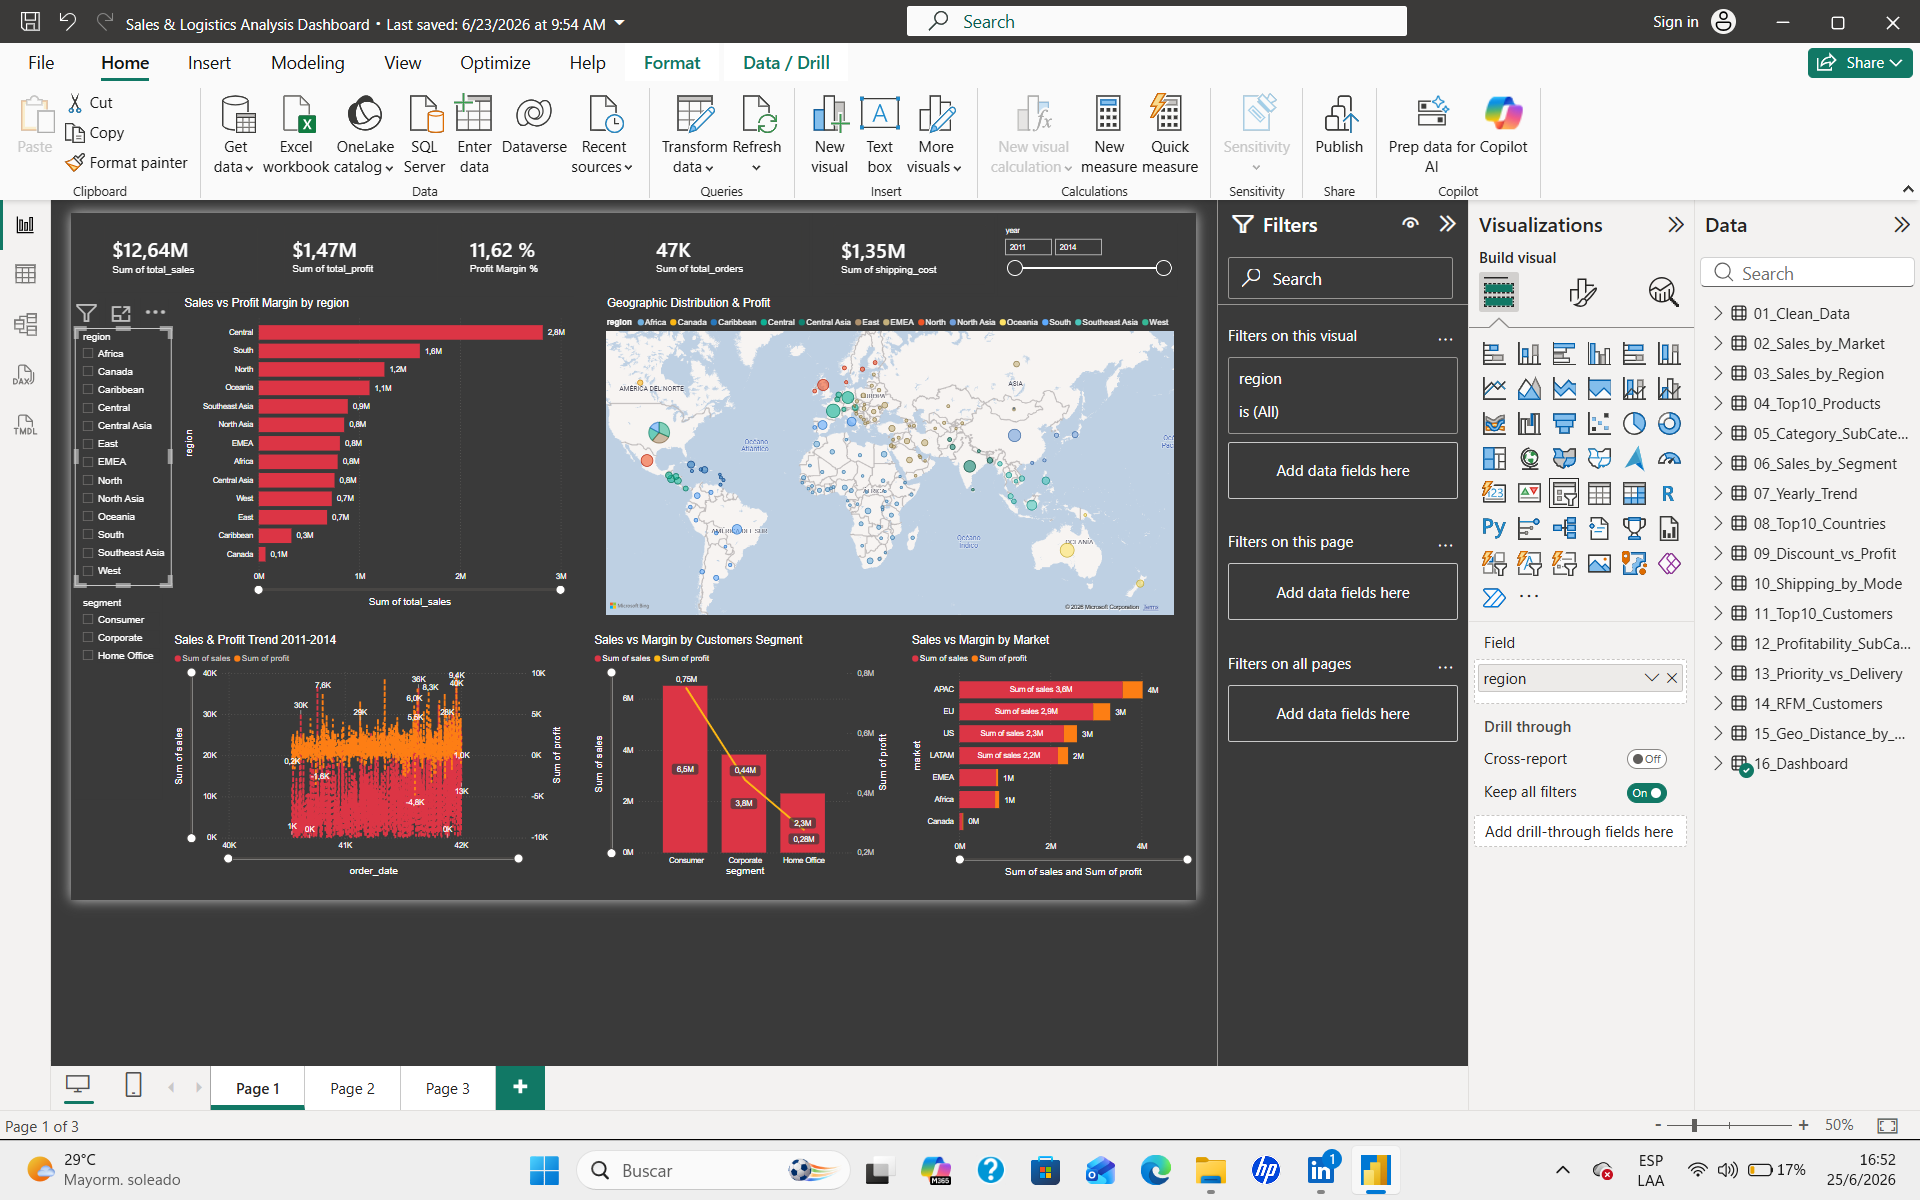

What the dashboard file says about the page in this screenshot:
{"tool":"powerbi","page":{"name":"Page 1","canvas":[1800,1100],"ordinal":0},"visuals":[{"type":"cardVisual","fields":{"Data":["Sum(02_Sales_by_Market.total_sales)"]},"box":[35,2.5,280,130],"z":0},{"type":"cardVisual","fields":{"Data":["Sum(02_Sales_by_Market.total_profit)"]},"box":[323.3,0,280,131.7],"z":1000},{"type":"cardVisual","fields":{"Data":["01_Clean_Data.Profit Margin %"]},"box":[608.3,0,280,131.7],"z":2000},{"type":"cardVisual","fields":{"Data":["Sum(05_Category_SubCategory.total_orders)"]},"box":[905,0,280,131.7],"z":3000},{"type":"cardVisual","fields":{"Data":["Sum(16_Dashboard.shipping_cost)"]},"box":[1201.7,1.7,280,131.7],"z":4000},{"type":"map","title":"Geographic Distribution & Profit","fields":{"Category":["16_Dashboard.country"],"Y":["Avg(16_Dashboard.lat)"],"X":["Avg(16_Dashboard.lon)"],"Size":["Sum(16_Dashboard.sales)"],"Series":["16_Dashboard.region"]},"box":[852,134,918,514],"z":5000},{"type":"barChart","title":"Sales vs Margin by Market","fields":{"Category":["16_Dashboard.market"],"Y":["Sum(16_Dashboard.sales)","Sum(16_Dashboard.profit)"]},"box":[1340,672,460,394],"z":6000},{"type":"clusteredBarChart","title":"Sales vs Profit Margin by region","fields":{"Category":["03_Sales_by_Region.region"],"Y":["Sum(03_Sales_by_Region.total_sales)"]},"box":[176,134,628,500],"z":7000},{"type":"lineClusteredColumnComboChart","title":"Sales vs Margin by Customers Segment","fields":{"Category":["16_Dashboard.segment"],"Y":["Sum(16_Dashboard.sales)"],"Y2":["Sum(16_Dashboard.profit)"]},"box":[832,672,480,394],"z":8000},{"type":"lineChart","title":"Sales & Profit Trend  2011-2014","fields":{"Category":["16_Dashboard.order_date"],"Y2":["Sum(16_Dashboard.profit)"],"Y":["Sum(16_Dashboard.sales)"]},"box":[160,672.5,630,392.5],"z":9000},{"type":"slicer","fields":{"Values":["16_Dashboard.region"]},"box":[6,184,154,414],"z":10000},{"type":"slicer","fields":{"Values":["16_Dashboard.segment"]},"box":[6.7,610,140,328.3],"z":11000},{"type":"slicer","fields":{"Values":["07_Yearly_Trend.year"]},"box":[1482.5,15,287.5,107.5],"z":12000}]}

Visuals, with their boxes on the page's 1800x1100 design canvas (x1, y1, x2, y2). These are canvas units, not pixel positions in the 1920x1200 screenshot, which may show the page scaled, cropped or inside an application window:
cardVisual - Sum(02_Sales_by_Market.total_sales): locate(35, 2, 315, 132)
cardVisual - Sum(02_Sales_by_Market.total_profit): locate(323, 0, 603, 132)
cardVisual - 01_Clean_Data.Profit Margin %: locate(608, 0, 888, 132)
cardVisual - Sum(05_Category_SubCategory.total_orders): locate(905, 0, 1185, 132)
cardVisual - Sum(16_Dashboard.shipping_cost): locate(1202, 2, 1482, 133)
"Geographic Distribution & Profit" map: locate(852, 134, 1770, 648)
"Sales vs Margin by Market" barChart: locate(1340, 672, 1800, 1066)
"Sales vs Profit Margin by region" clusteredBarChart: locate(176, 134, 804, 634)
"Sales vs Margin by Customers Segment" lineClusteredColumnComboChart: locate(832, 672, 1312, 1066)
"Sales & Profit Trend  2011-2014" lineChart: locate(160, 672, 790, 1065)
slicer - 16_Dashboard.region: locate(6, 184, 160, 598)
slicer - 16_Dashboard.segment: locate(7, 610, 147, 938)
slicer - 07_Yearly_Trend.year: locate(1482, 15, 1770, 122)
